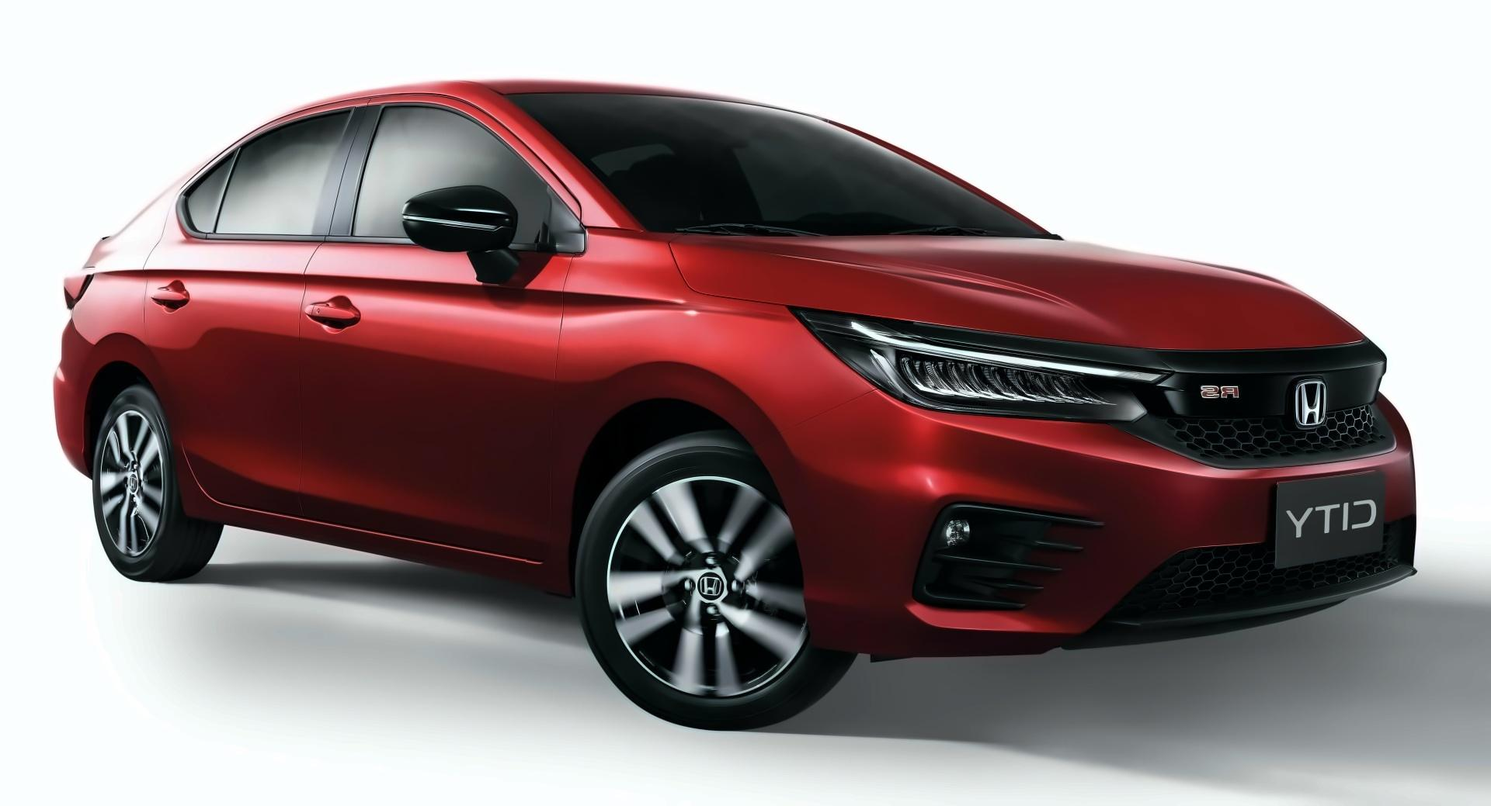Car hood: (664, 225, 1376, 358)
Driver-s door - -F-R-: (301, 88, 545, 566)
Fender - -F-R-: (548, 219, 879, 584)
Fender - -R-R-: (84, 226, 198, 514)
Front bumper: (761, 390, 1449, 668)
Headlight - -R-: (781, 297, 1179, 434)
Passenger-s door - -R-R-: (144, 99, 339, 534)
Rear bumper: (47, 334, 111, 488)
Rear light - -R-: (45, 229, 116, 332)
Side bumper - -R-: (163, 479, 582, 601)
Side mirror - -R-: (394, 177, 529, 293)
